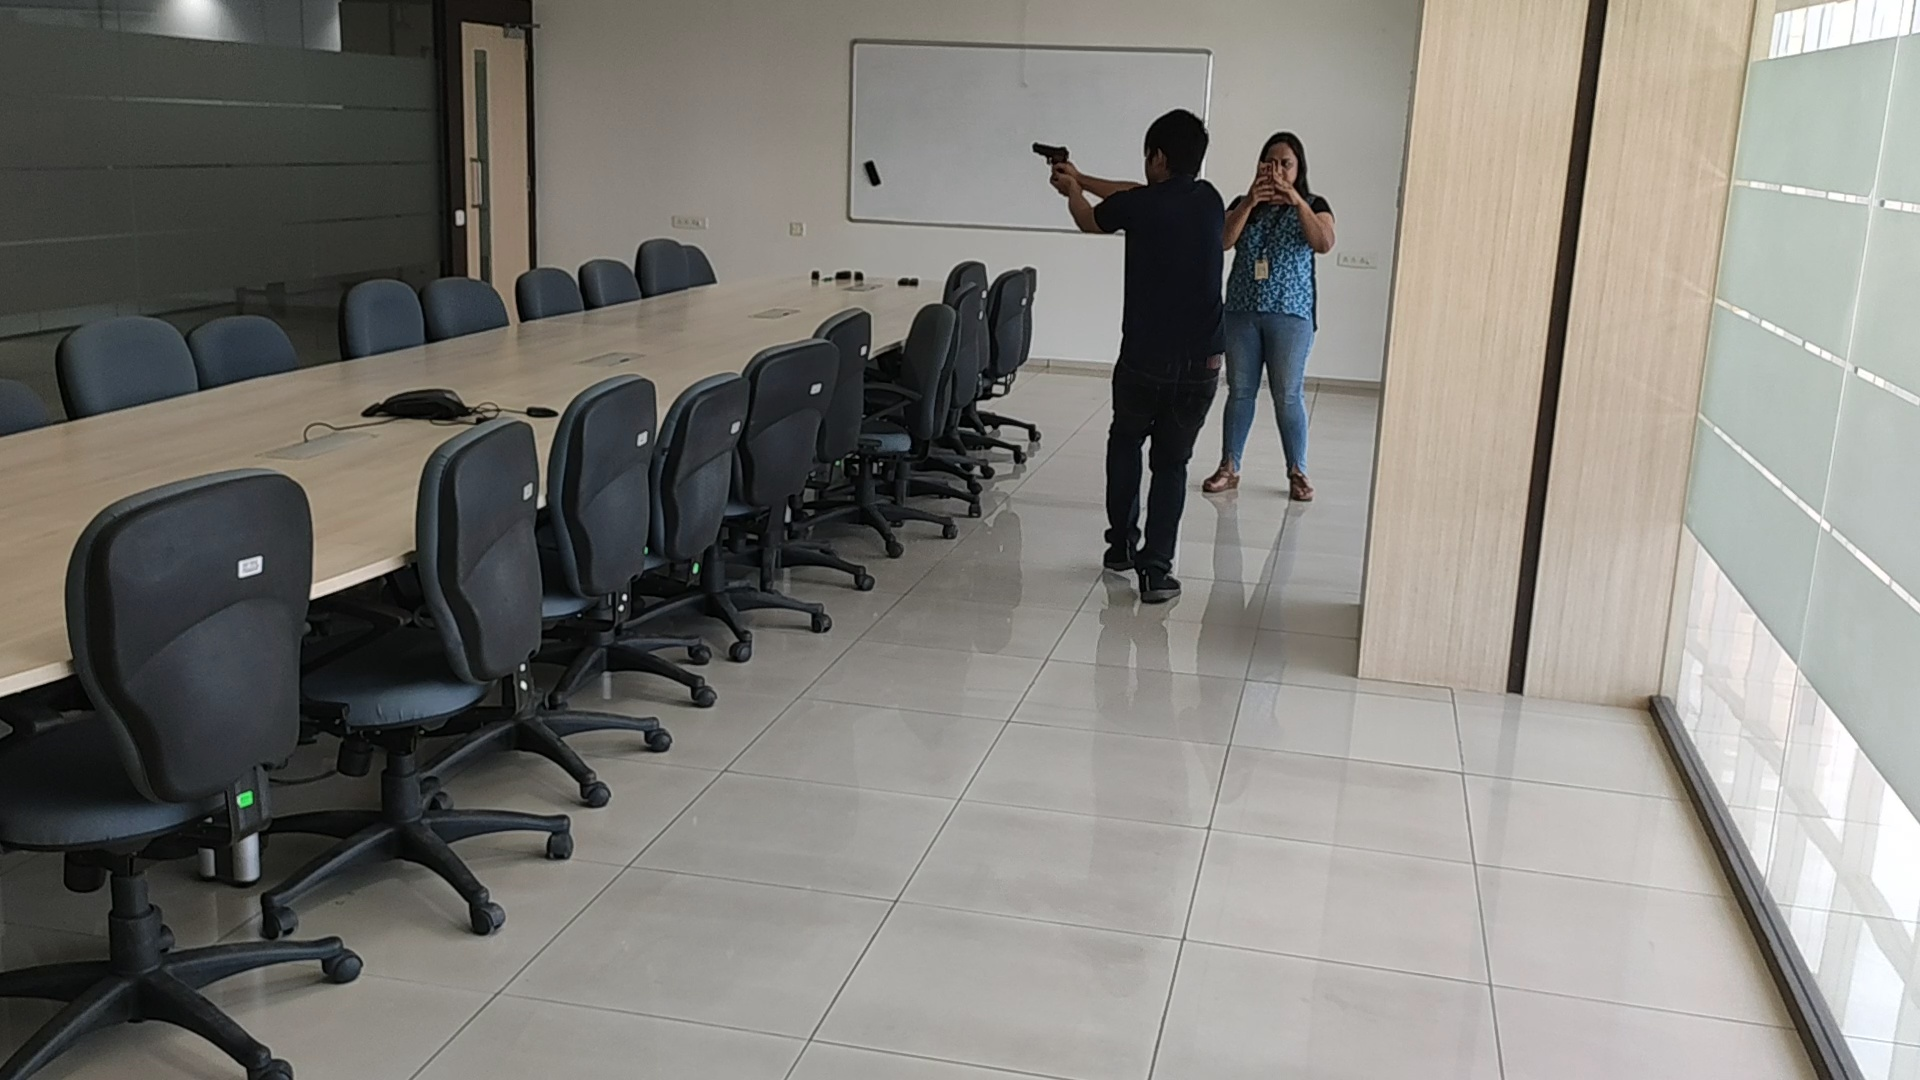gun: (1031, 142, 1069, 171)
